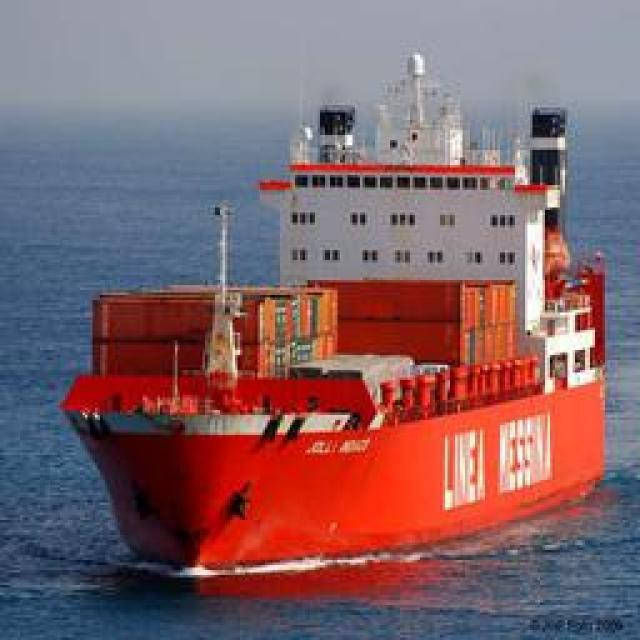Ship: (62, 106, 610, 584)
